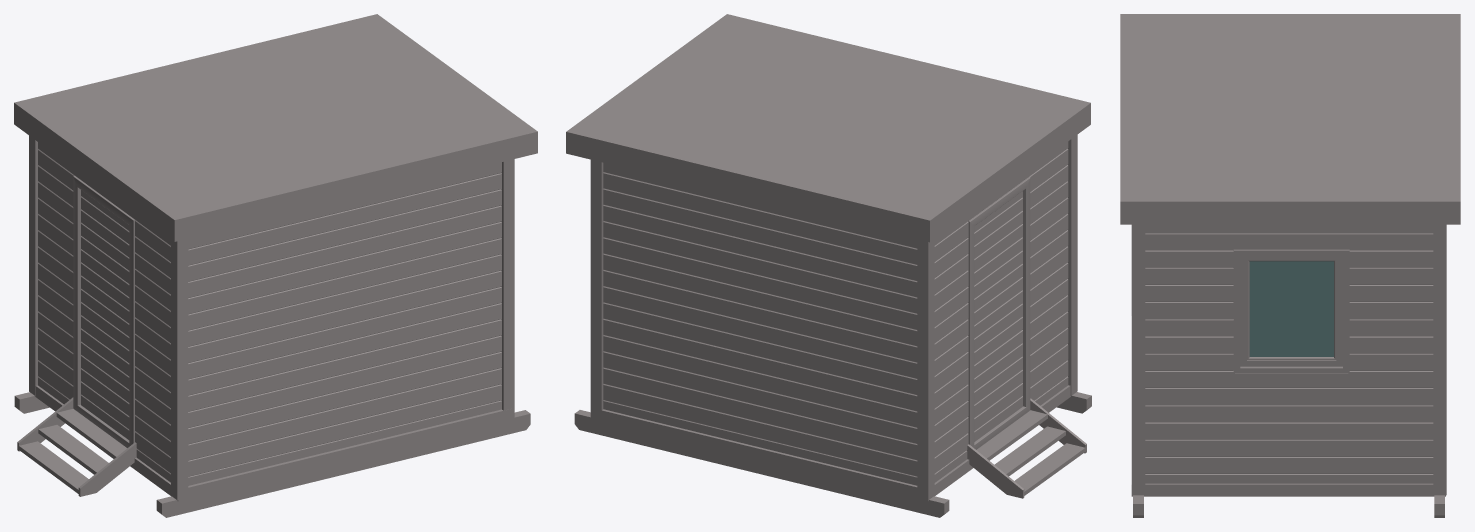
The model's file is free.FBX.
3 renders of one model, left to right at view 1: azimuth 30°, elevation 25°; view 2: azimuth 150°, elevation 25°; view 3: azimuth 270°, elevation 25°, orthographic. The views are drawn at different scales.
Parts seen in each view (by area): view 1: Floor_Object001, Box001, Floor_Object004, Floor_Object015, Box004, Box008, Box006, Group011, Box005, obj_039, Box007, StraightStair001 (+1 smaller); view 2: Floor_Object005, Box001, Floor_Object004, Floor_Object015, Box003, Box008, Box007, Group011, Box002, obj_039, Box006, StraightStair001 (+1 smaller); view 3: Box001, Floor_Object002, glass, Object004, Box008, Box005, Box002.
Part boxes in pixels (bbox=[...]): Floor_Object001: bbox=[188, 162, 501, 485]; Box001: bbox=[14, 14, 537, 241]; Floor_Object004: bbox=[38, 142, 170, 482]; Floor_Object015: bbox=[81, 190, 129, 439]; Box004: bbox=[156, 410, 530, 517]; Box008: bbox=[35, 385, 514, 501]; Box006: bbox=[171, 239, 188, 500]; Group011: bbox=[19, 408, 127, 493]; Box005: bbox=[501, 129, 514, 410]; obj_039: bbox=[73, 177, 135, 445]; Box007: bbox=[29, 135, 38, 395]; StraightStair001: bbox=[17, 397, 136, 496]; Floor_Object005: bbox=[603, 162, 917, 485]; Box001: bbox=[566, 14, 1090, 242]; Floor_Object004: bbox=[934, 141, 1068, 482]; Floor_Object015: bbox=[974, 191, 1022, 441]; Box003: bbox=[574, 410, 949, 517]; Box008: bbox=[591, 385, 1070, 500]; Box007: bbox=[917, 208, 934, 500]; Group011: bbox=[976, 410, 1085, 495]; Box002: bbox=[590, 159, 603, 420]; obj_039: bbox=[968, 179, 1030, 447]; Box006: bbox=[1062, 103, 1077, 395]; StraightStair001: bbox=[967, 398, 1086, 498]; Box001: bbox=[1120, 14, 1460, 224]; Floor_Object002: bbox=[1145, 224, 1433, 483]; glass: bbox=[1249, 261, 1333, 356]; Object004: bbox=[1233, 249, 1349, 374]; Box008: bbox=[1131, 316, 1445, 496]; Box005: bbox=[1132, 187, 1145, 495]; Box002: bbox=[1433, 187, 1446, 495].
Bounding box in the file's own units: 374 × 264 × 254.
